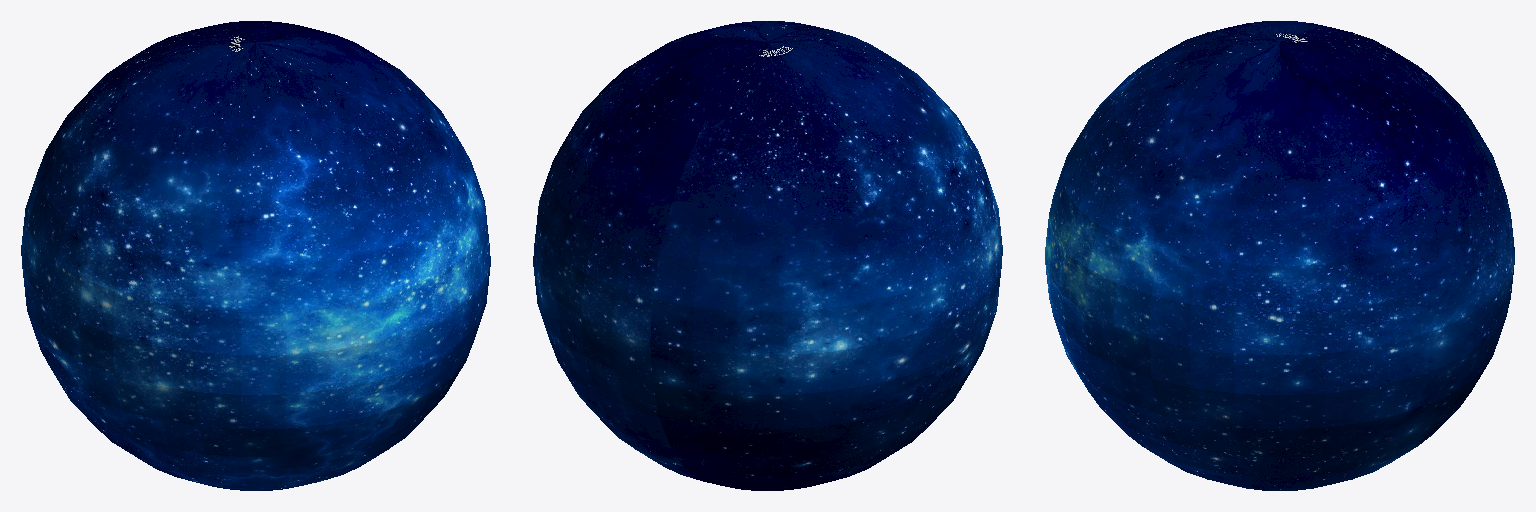
The picture shows the model from 3 angles: view 1: azimuth 30°, elevation 25°; view 2: azimuth 150°, elevation 25°; view 3: azimuth 270°, elevation 25°; orthographic projection.
Parts seen in each view (by area): view 1: Sphere001; view 2: Sphere001; view 3: Sphere001.
Boxes of the visible parts, <box> form: Sphere001: <box>21,21,490,490</box>; Sphere001: <box>533,21,1002,490</box>; Sphere001: <box>1045,21,1514,490</box>.
Size of the model in its own units: 2000 by 2000 by 2000.
1 materials, 1 textured.